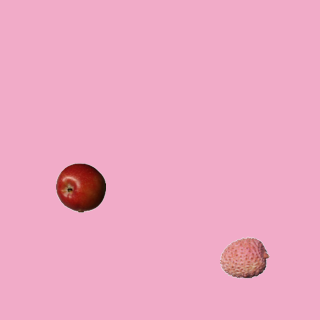Apple Braeburn: (55, 162, 105, 212)
Lychee: (219, 232, 269, 282)
